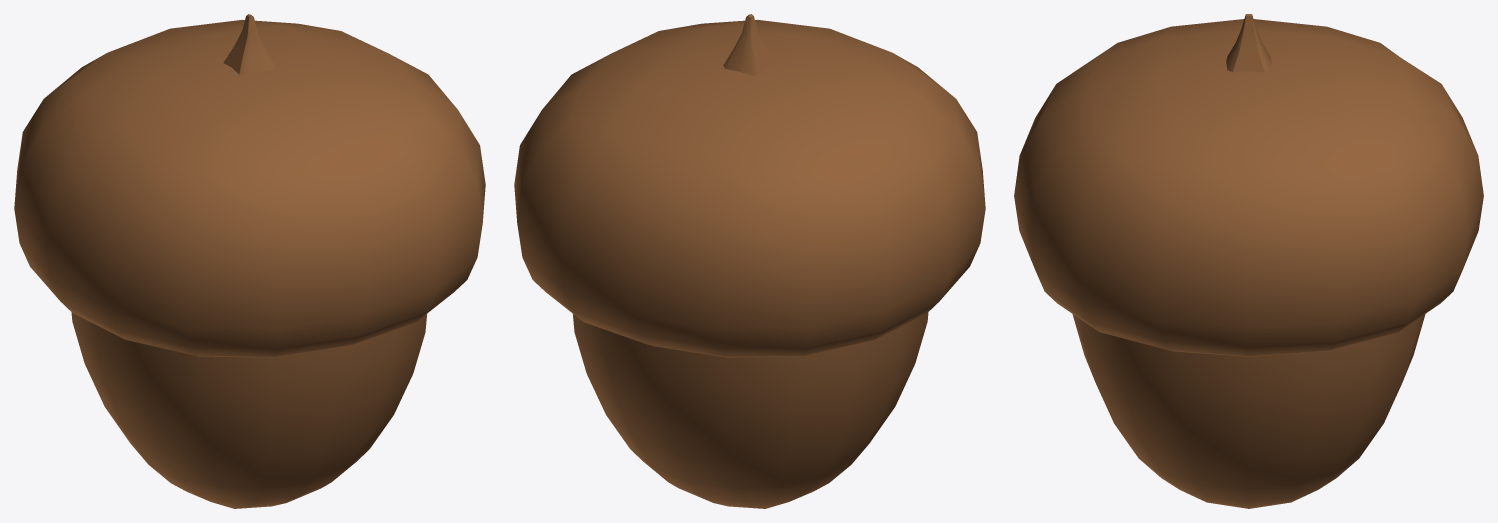
The model's file is Bellotita.fbx.
The picture shows the model from 3 angles, left to right: view 1: azimuth 30°, elevation 25°; view 2: azimuth 150°, elevation 25°; view 3: azimuth 270°, elevation 25°; orthographic projection.
Parts seen in each view (by area): view 1: Bellotita; view 2: Bellotita; view 3: Bellotita.
Boxes of the visible parts, <box> form: Bellotita: <box>14,14,485,508</box>; Bellotita: <box>514,14,985,508</box>; Bellotita: <box>1014,14,1483,508</box>.
Bounding box in the file's own units: 0.1097 × 0.1244 × 0.1097.
